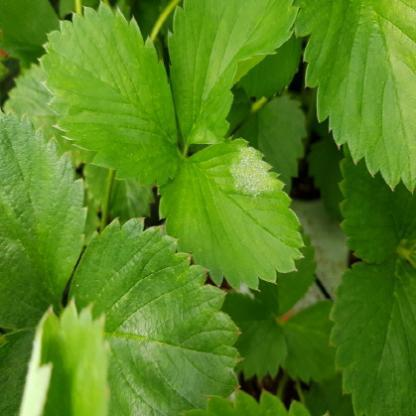Strawberry_Powdery_Mildew_Leaf: (158, 136, 306, 292)
